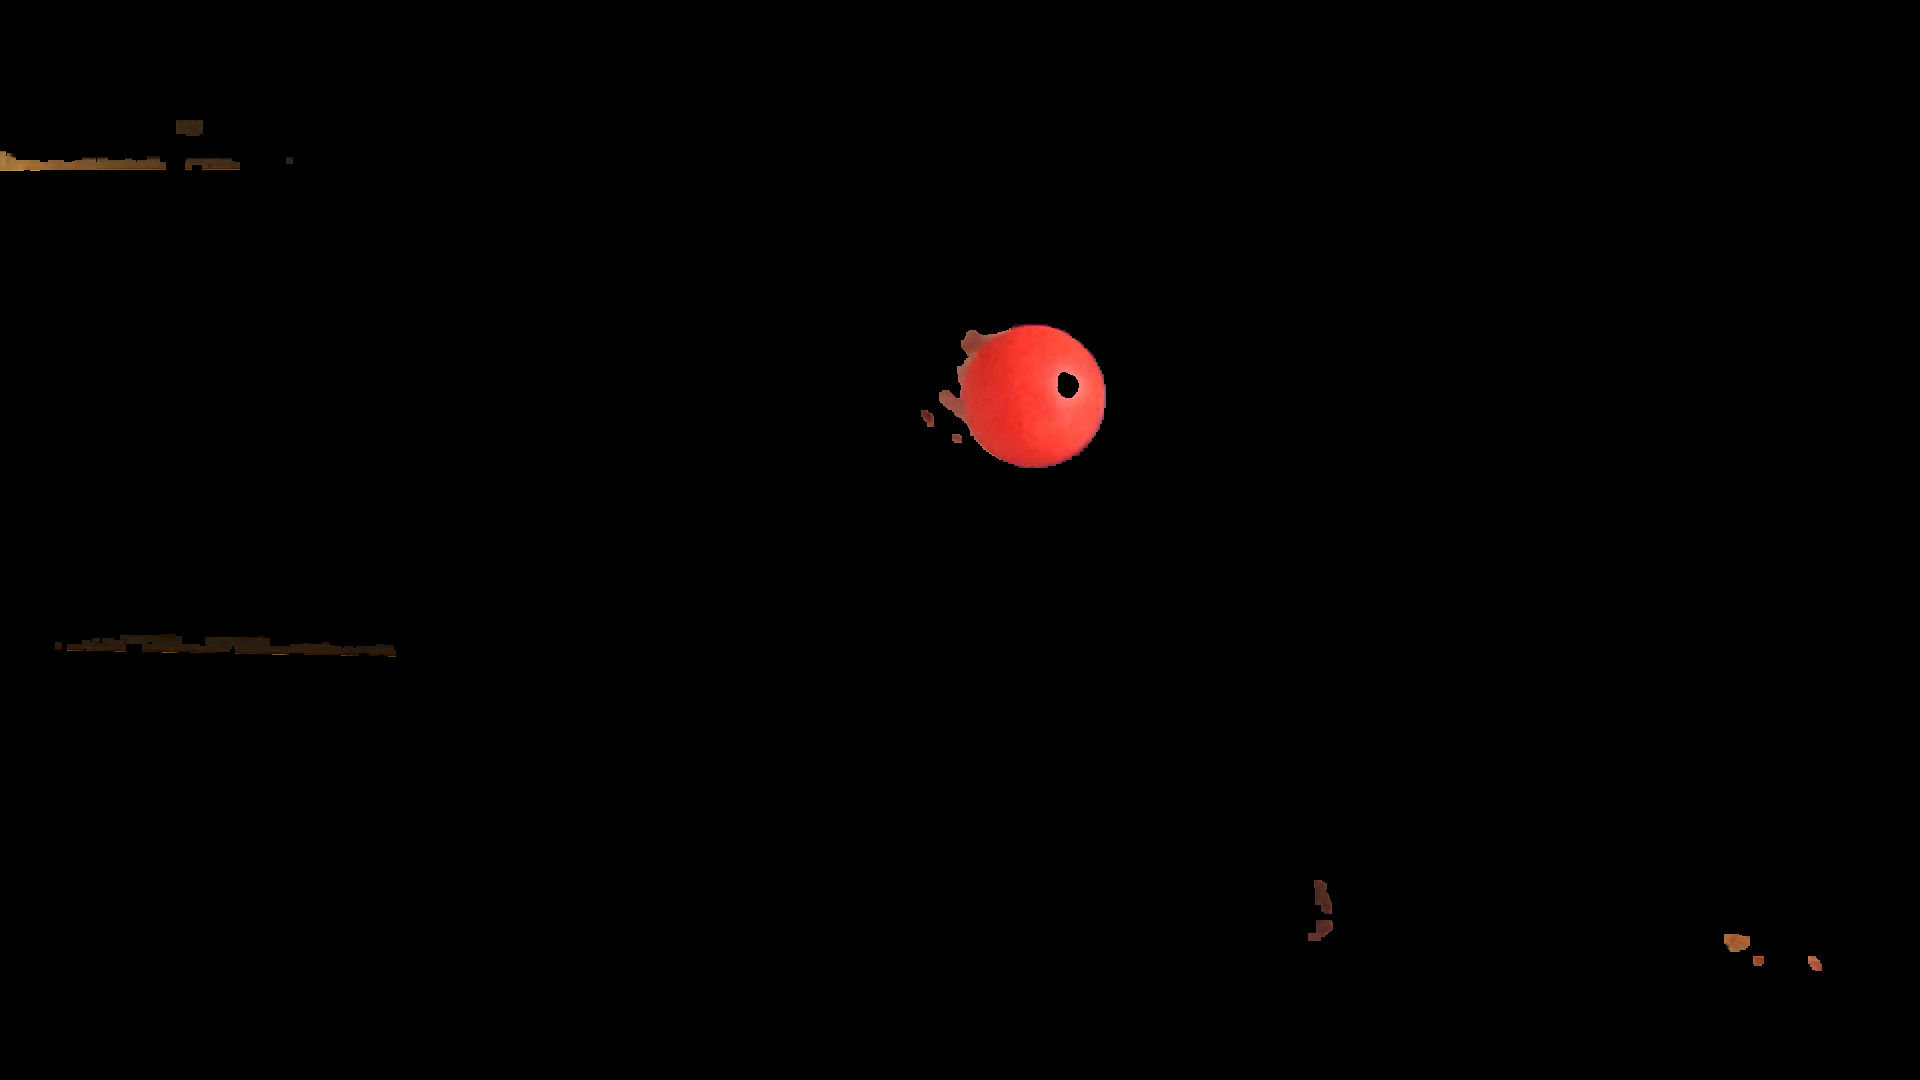Ball: (963, 326, 1110, 469)
